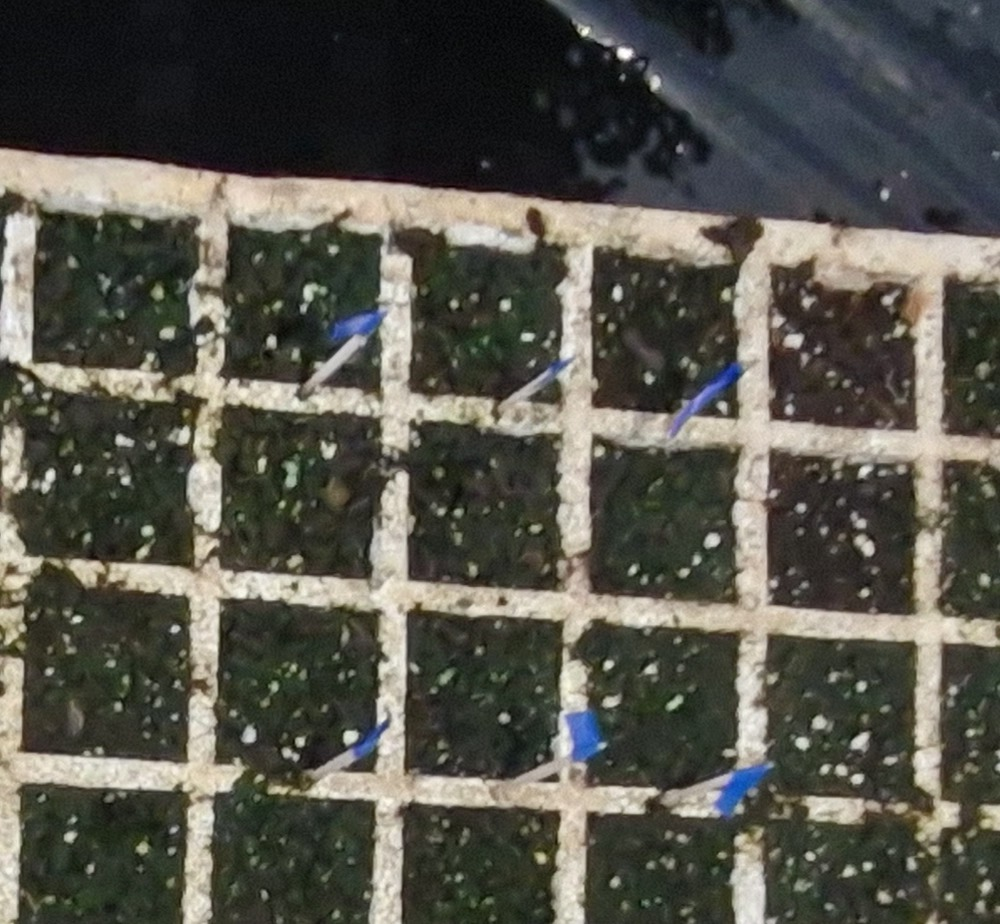Folha: (283, 460, 297, 475), (286, 475, 297, 488)
Germinacao: (284, 463, 299, 488)
